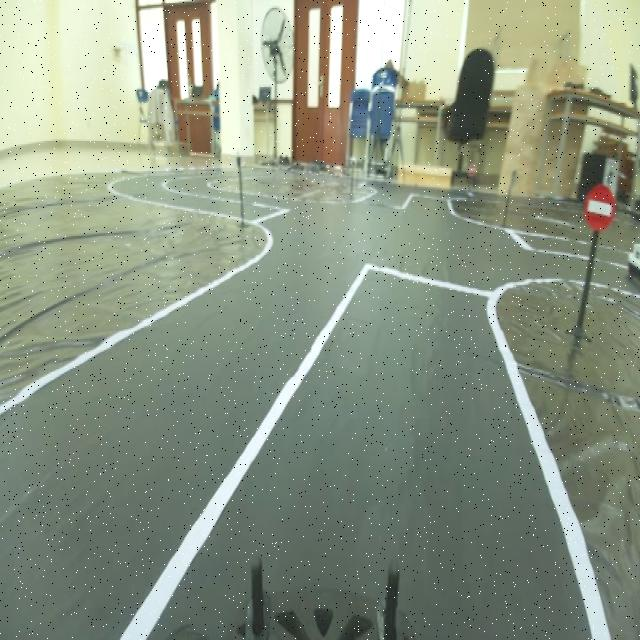no_entry: (585, 178, 616, 242)
